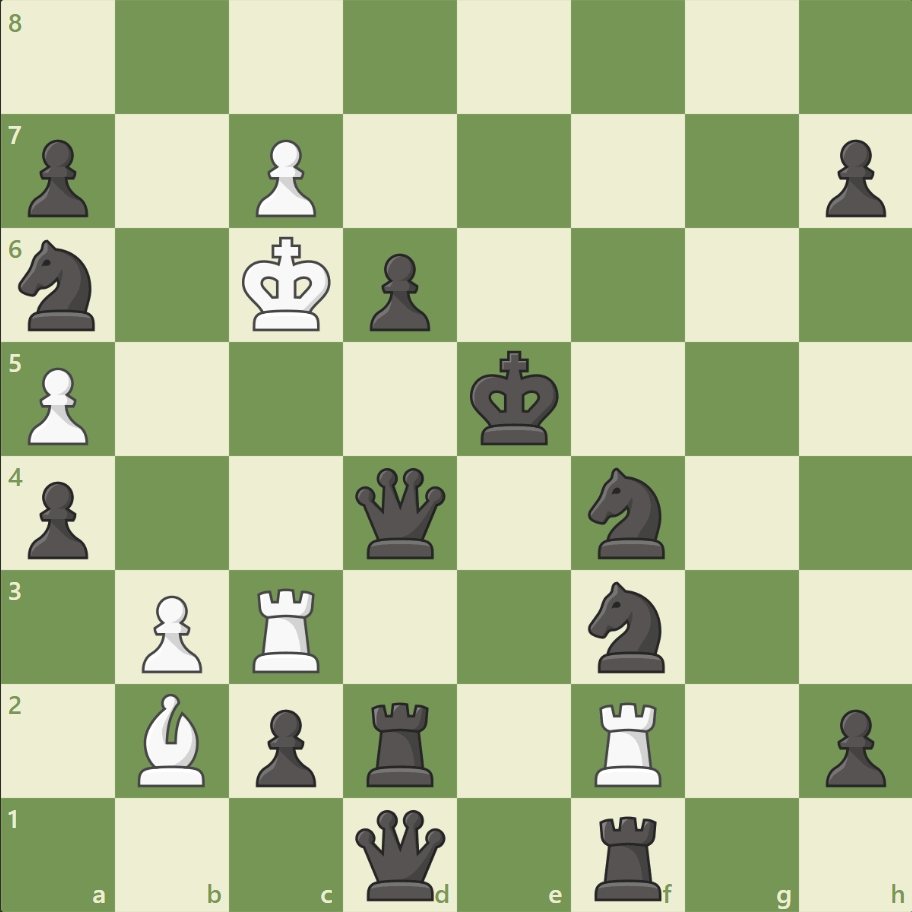B: (131, 687, 215, 790)
K: (238, 231, 338, 339)
P: (247, 132, 322, 223), (20, 359, 95, 450), (133, 586, 208, 677)
R: (246, 579, 329, 676), (587, 693, 670, 790)
k: (465, 344, 565, 452)
n: (11, 234, 108, 337), (579, 461, 676, 564), (579, 575, 676, 677)
p: (20, 132, 95, 223), (20, 473, 95, 564), (247, 700, 322, 791), (815, 132, 889, 223), (361, 246, 435, 337), (815, 700, 889, 791)
q: (351, 463, 450, 562), (351, 804, 450, 903)
r: (587, 806, 670, 904), (360, 693, 442, 790)
